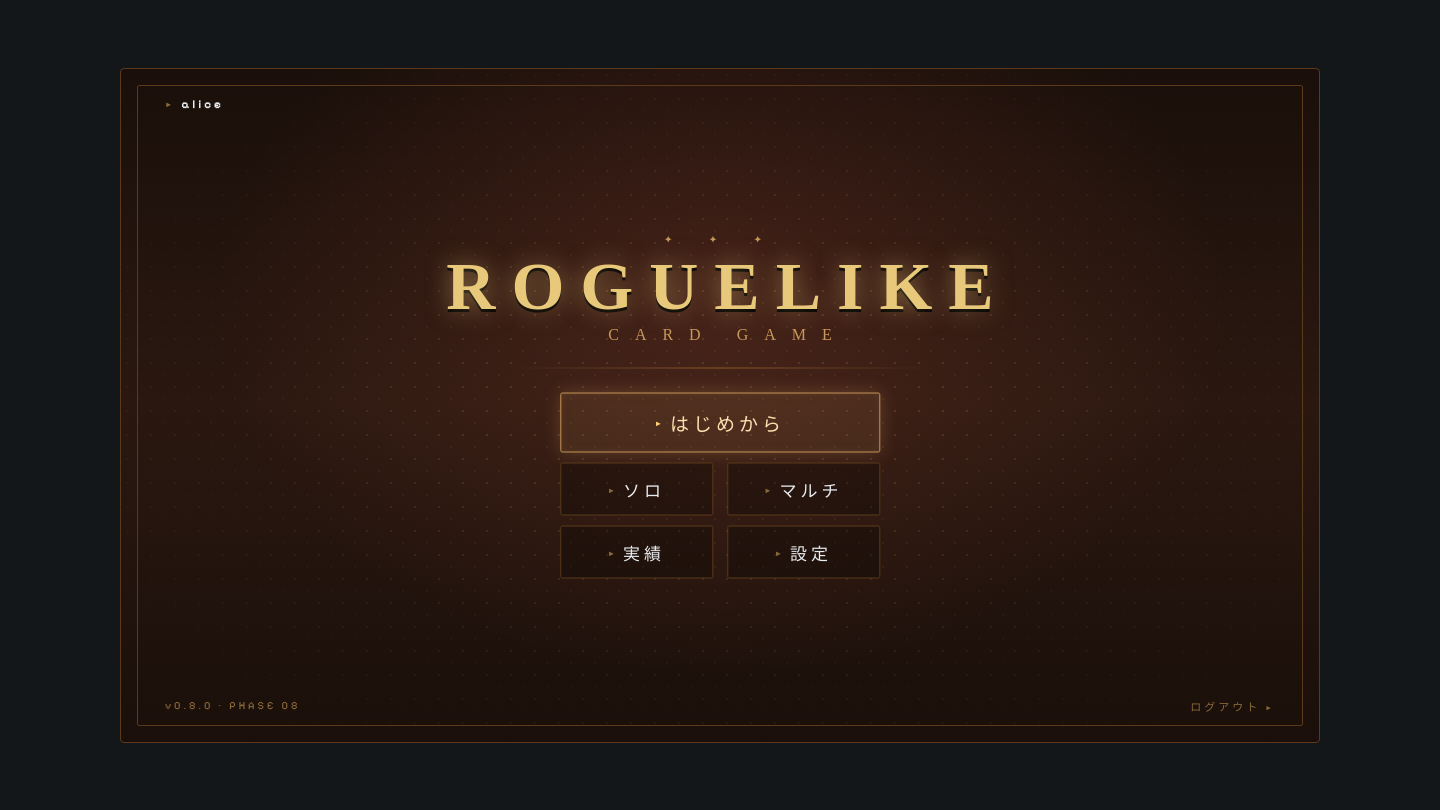
MainMenuScreen › shows coming-soon dialog for multiplayer / achievements
The width and height of the screenshot is (1440, 810).
Click the button "▸ マルチ": (804, 489) [727, 462, 880, 516]
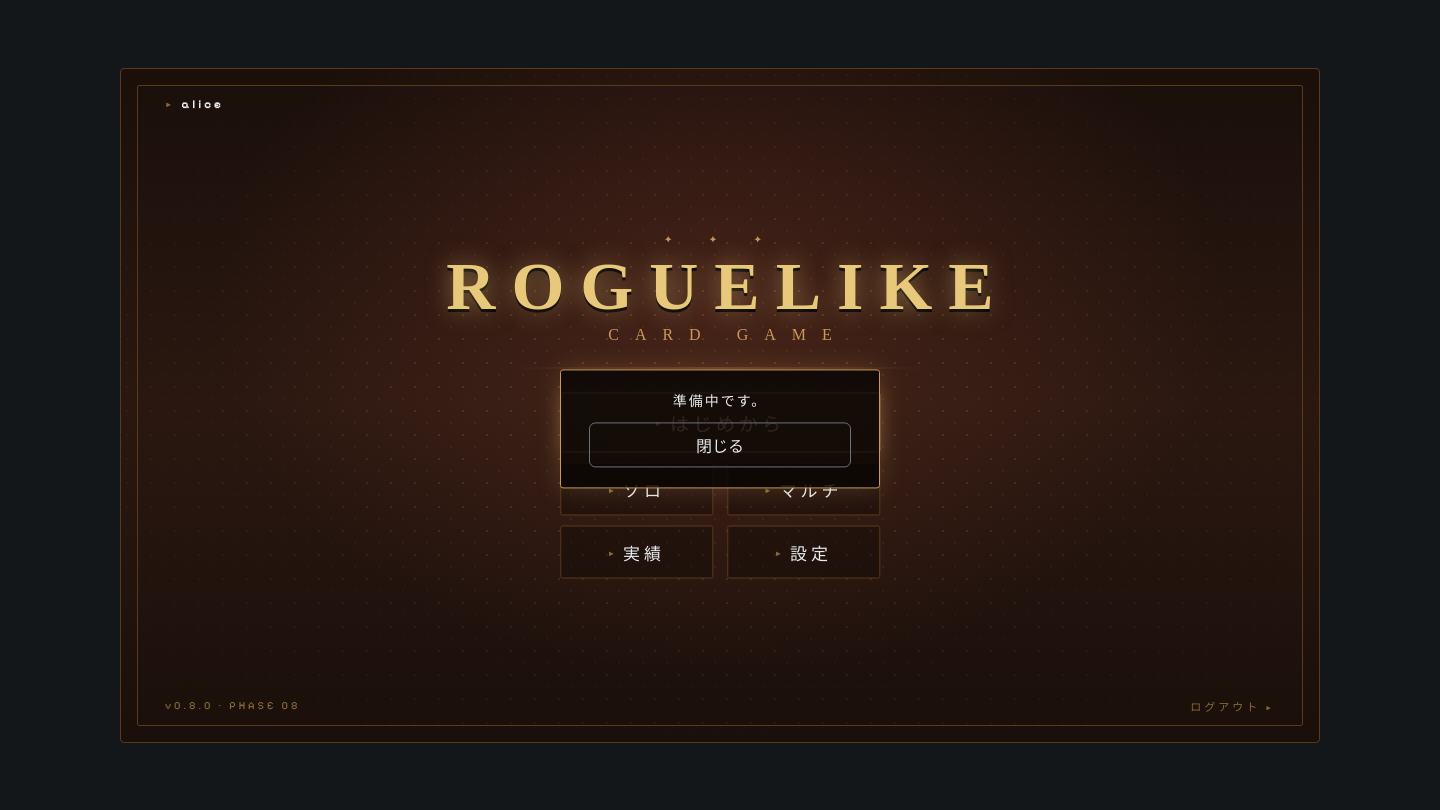
Result: the text "準備中です。" is shown at [673, 394, 767, 410]
